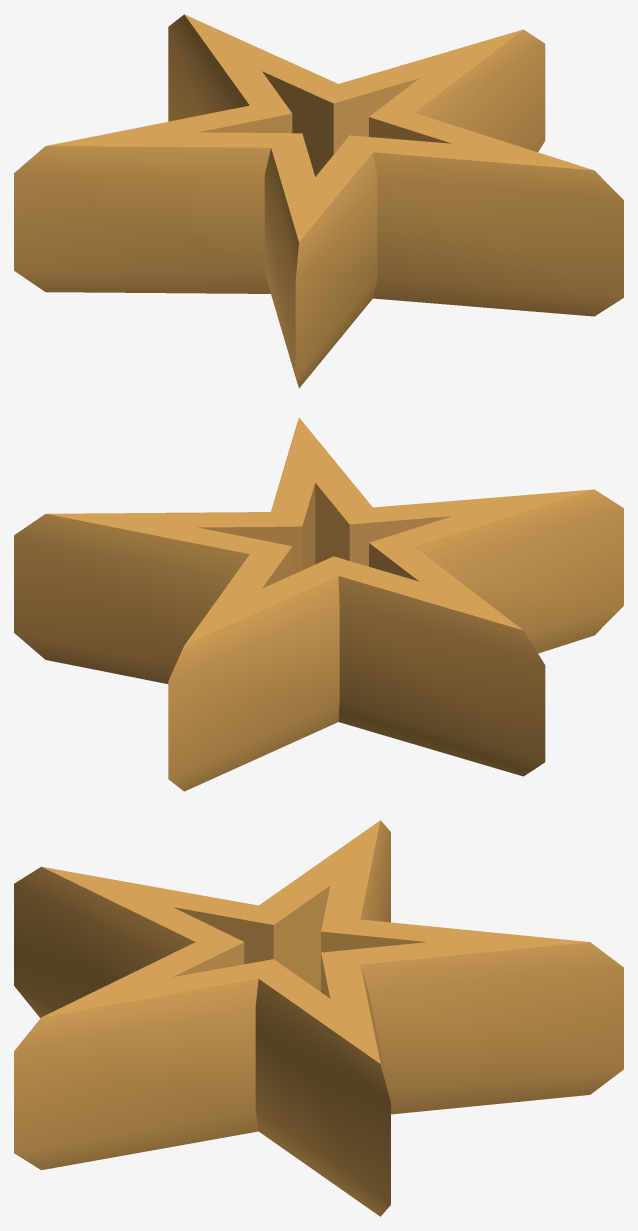
Rendered from Star_5P_04.fbx.
3 views of the same model, one above another, from view 1: azimuth 30°, elevation 25°; view 2: azimuth 150°, elevation 25°; view 3: azimuth 270°, elevation 25° (orthographic). The views are drawn at different scales.
Visible parts, largest first — view 1: Star_5P_04; view 2: Star_5P_04; view 3: Star_5P_04.
Boxes of the visible parts, <box> form: Star_5P_04: <box>14,14,623,388</box>; Star_5P_04: <box>14,417,623,791</box>; Star_5P_04: <box>14,820,623,1216</box>.
Size of the model in its own units: 380 by 100 by 362.
